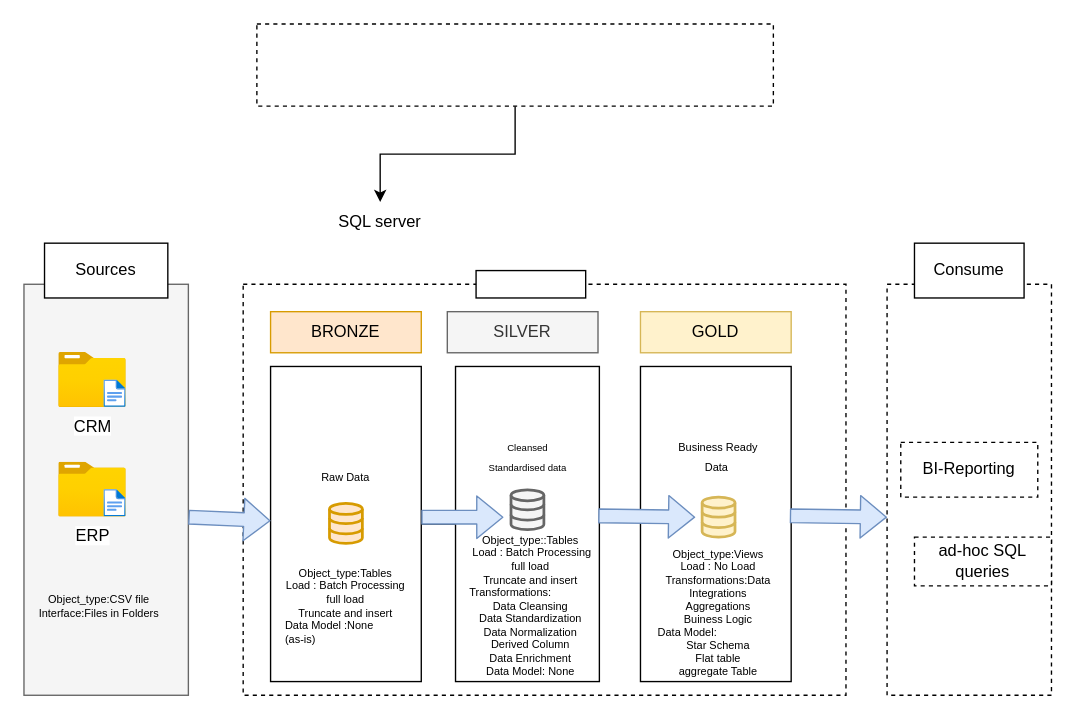
This 1075x719 diagram has some shape labels left out. The shapes that lost their labels are listed below. From the top down, each one's box as (x1, y1, x2, y2) in pixels, then its label:
(256, 23, 773, 106): HIGH LEVEL ARCHITECTURE
(475, 269, 586, 298): DWH
